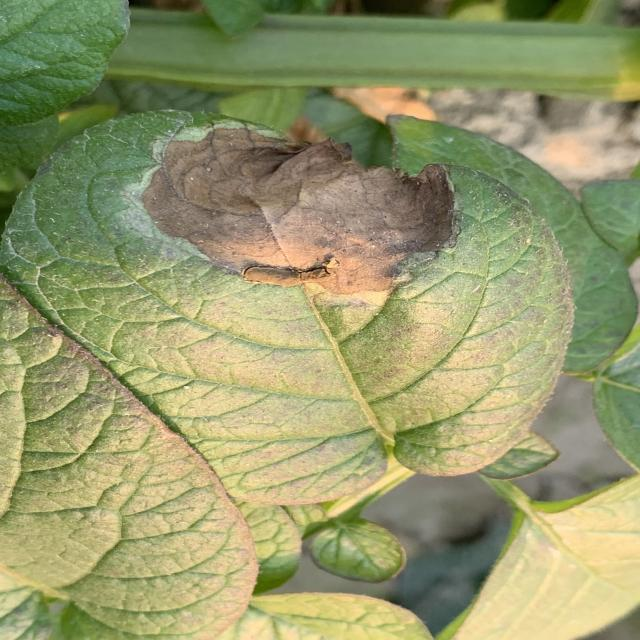lateblight: (142, 128, 453, 306)
